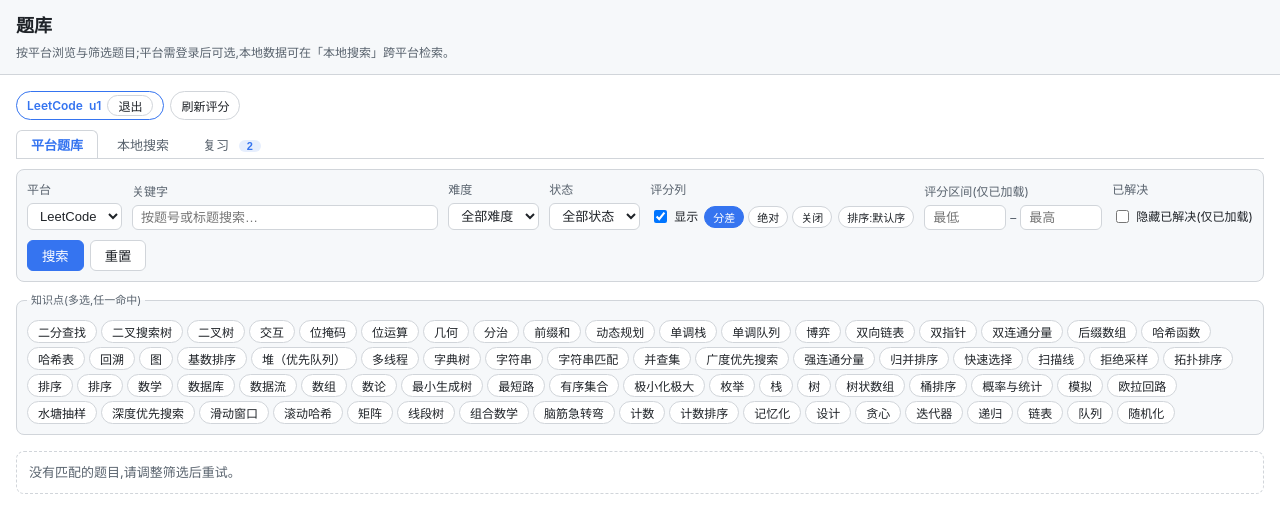
Test: problems page review subview (WP64) › shows the today-count badge on the tab, then renders three groups with overdue flag and due dates
Check: the text with class "subviews__badge" reads "2", box [247,140,253,152]
Click the tab with class "subviews__tab" showing "复习 2" at (232, 144), box [188,130,276,158]
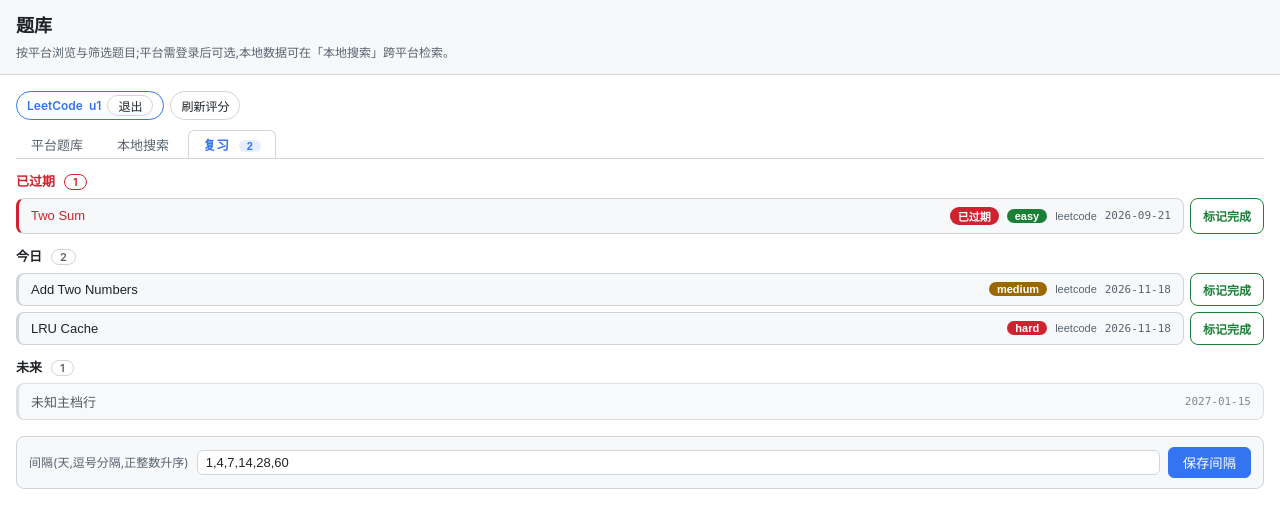
Check: the number of elements with class "review-group" is 3, box [16,171,1264,234]; [16,246,1264,345]; [16,357,1264,420]
Check: the heading with class "review-group__title" shows "已过期", box [16,173,58,189]
Check: the heading with class "review-group__title" shows "今日", box [16,248,45,264]
